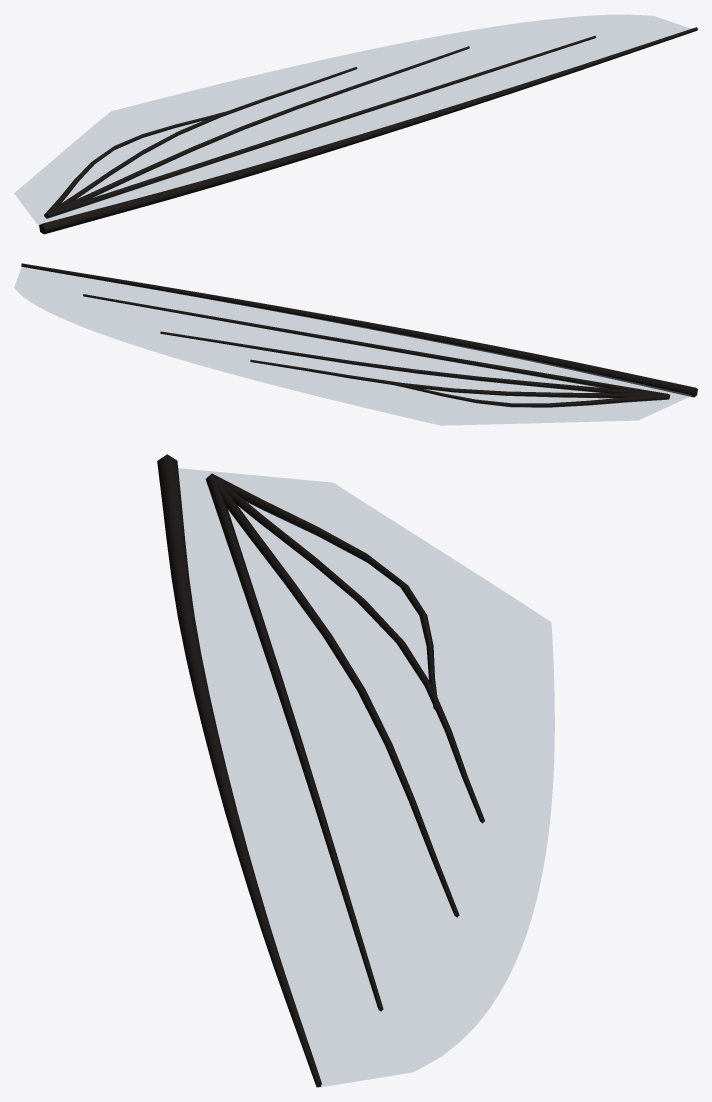
Rendered from mosquito_wing_l.obj.
3 renders of one model, top to bottom at view 1: azimuth 30°, elevation 25°; view 2: azimuth 150°, elevation 25°; view 3: azimuth 270°, elevation 25°, orthographic. The views are drawn at different scales.
Visible parts, largest first — view 1: part0, part1, part2, part3, part4, part5; view 2: part0, part1, part2, part3, part4, part5; view 3: part0, part1, part2, part3, part4, part5.
Boxes of the visible parts, box(x1,y1,x2,y2) form: part0: box(14, 14, 690, 225); part1: box(39, 27, 697, 234); part2: box(46, 35, 595, 218); part3: box(48, 46, 469, 212); part4: box(48, 67, 357, 211); part5: box(44, 107, 243, 218); part0: box(14, 267, 691, 425); part1: box(21, 263, 697, 397); part2: box(83, 294, 670, 396); part3: box(160, 331, 666, 393); part4: box(250, 359, 667, 398); part5: box(389, 382, 669, 407); part0: box(178, 468, 554, 1087); part1: box(157, 454, 321, 1087); part2: box(205, 473, 383, 1011); part3: box(212, 474, 459, 917); part4: box(212, 474, 484, 823); part5: box(212, 473, 437, 709).
Bounding box in the file's own units: 1.65 × 0.0217 × 0.4468.
